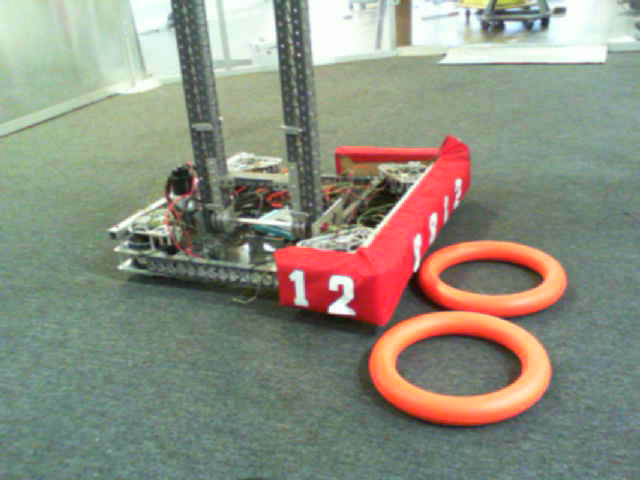Note: (375, 319, 560, 426), (424, 244, 571, 316)
Robot: (111, 2, 479, 318)
